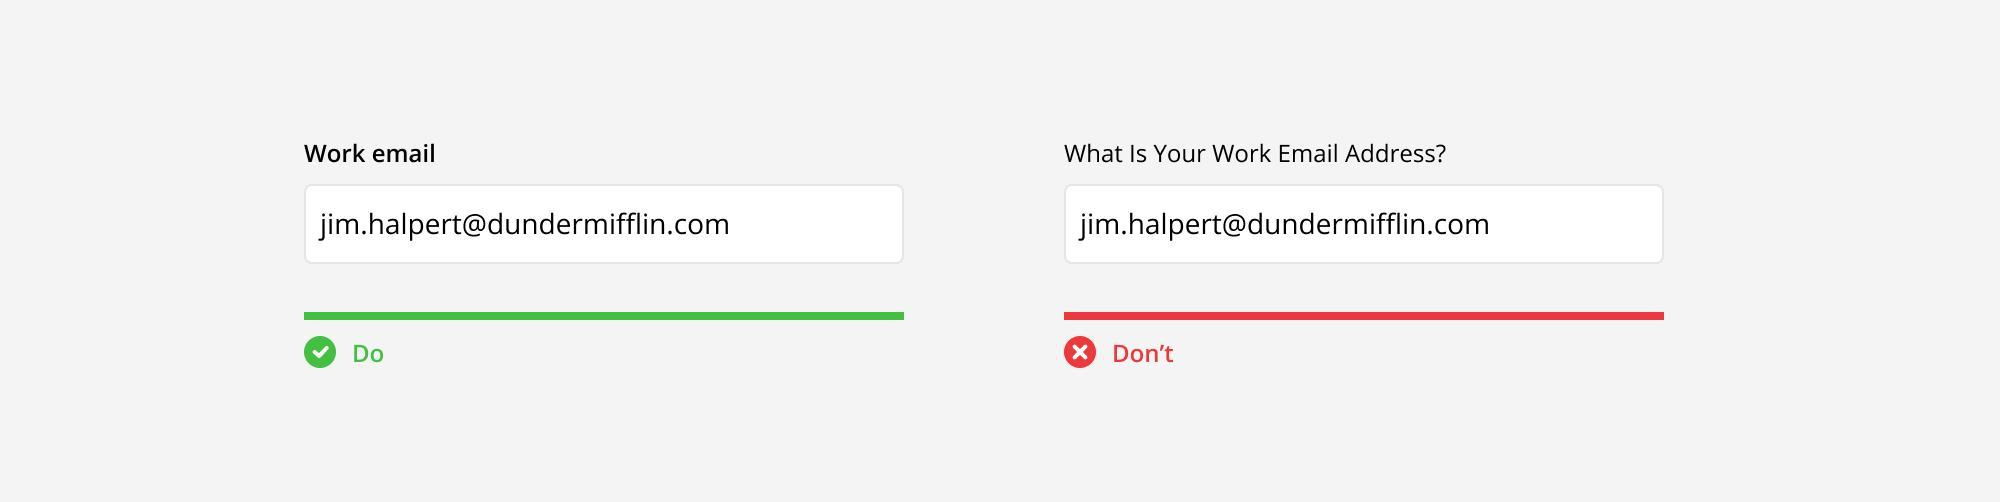input: (1061, 178, 1670, 271), (300, 182, 909, 269)
label: (1057, 143, 1452, 166), (300, 141, 437, 167)
